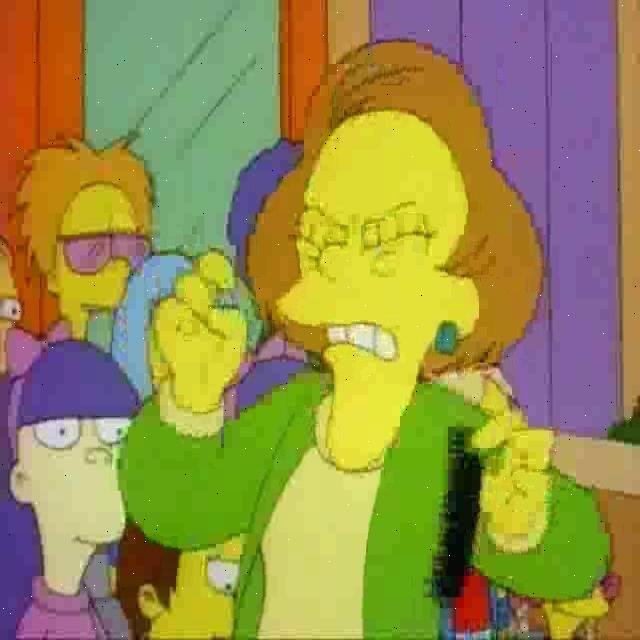Edna Krappel: (248, 38, 548, 438)
